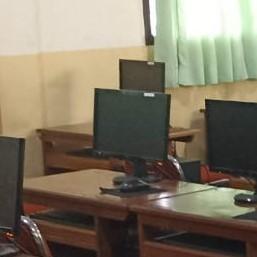monitor: (92, 88, 170, 162), (204, 99, 257, 181), (0, 136, 26, 235), (118, 59, 165, 93)
